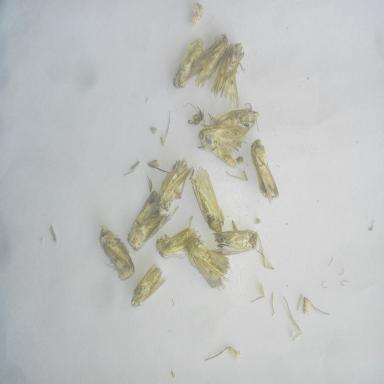abw: (125, 184, 178, 254), (184, 163, 228, 236), (206, 39, 248, 114), (180, 236, 234, 293), (93, 220, 138, 285), (153, 152, 197, 215), (194, 122, 248, 173), (208, 95, 265, 142), (211, 226, 270, 271), (191, 30, 233, 93), (170, 34, 215, 92), (127, 258, 171, 311), (247, 138, 282, 204), (152, 221, 200, 261)
